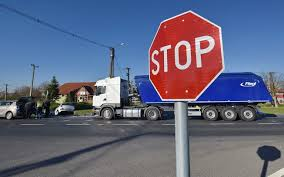stop: (148, 9, 225, 102)
